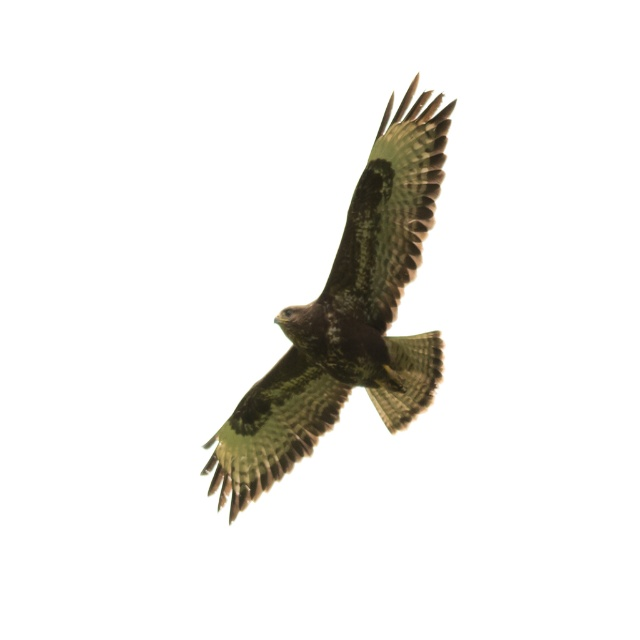Eagle: (196, 59, 458, 531)
